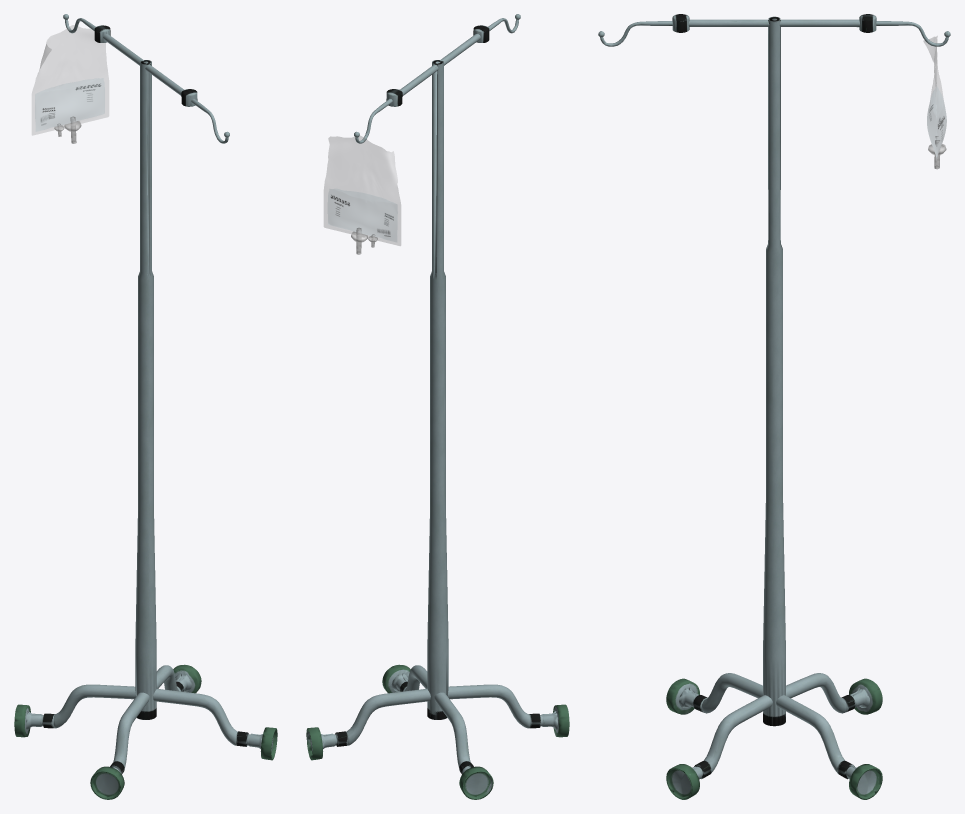
The picture shows the model from 3 angles, left to right: view 1: azimuth 30°, elevation 25°; view 2: azimuth 150°, elevation 25°; view 3: azimuth 270°, elevation 25°; orthographic projection. The views are drawn at different scales.
Parts seen in each view (by area): view 1: PM3D_Base_IVPole_copy1, PM3D_Base_IVPole_copy2, PM3D_Base_IVPole; view 2: PM3D_Base_IVPole_copy1, PM3D_Base_IVPole_copy2, PM3D_Base_IVPole; view 3: PM3D_Base_IVPole_copy1, PM3D_Base_IVPole_copy2, PM3D_Base_IVPole.
Part boxes in pixels (x1=…): PM3D_Base_IVPole_copy1: x1=14, y1=14, x2=277, y2=799; PM3D_Base_IVPole_copy2: x1=32, y1=25, x2=108, y2=135; PM3D_Base_IVPole: x1=35, y1=79, x2=104, y2=130; PM3D_Base_IVPole_copy1: x1=306, y1=14, x2=569, y2=799; PM3D_Base_IVPole_copy2: x1=324, y1=136, x2=400, y2=245; PM3D_Base_IVPole: x1=328, y1=189, x2=397, y2=241; PM3D_Base_IVPole_copy1: x1=598, y1=14, x2=950, y2=799; PM3D_Base_IVPole_copy2: x1=923, y1=36, x2=946, y2=158; PM3D_Base_IVPole: x1=927, y1=88, x2=946, y2=156.
Size of the model in its own units: 505 by 1776 by 767.
4 materials, 4 textured.
